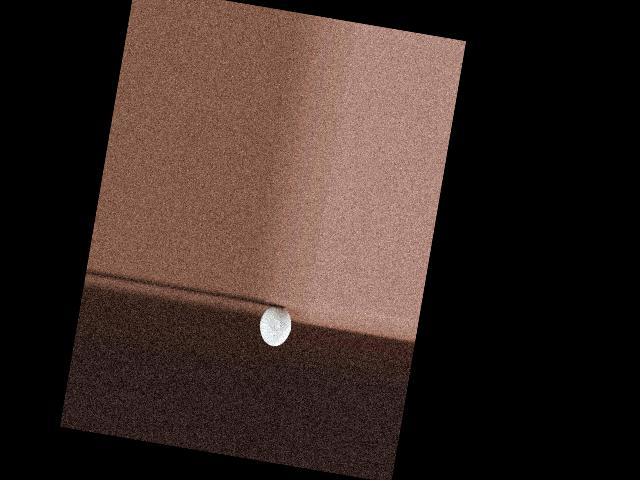egg: (256, 303, 293, 348)
